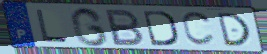B: (105, 8, 147, 47)
C: (181, 11, 217, 48)
D: (141, 9, 179, 47), (215, 12, 252, 48)
G: (69, 6, 110, 48)
L: (34, 9, 70, 44)
